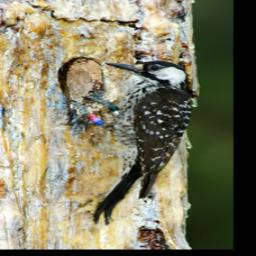Woodpecker: (70, 60, 196, 225)
